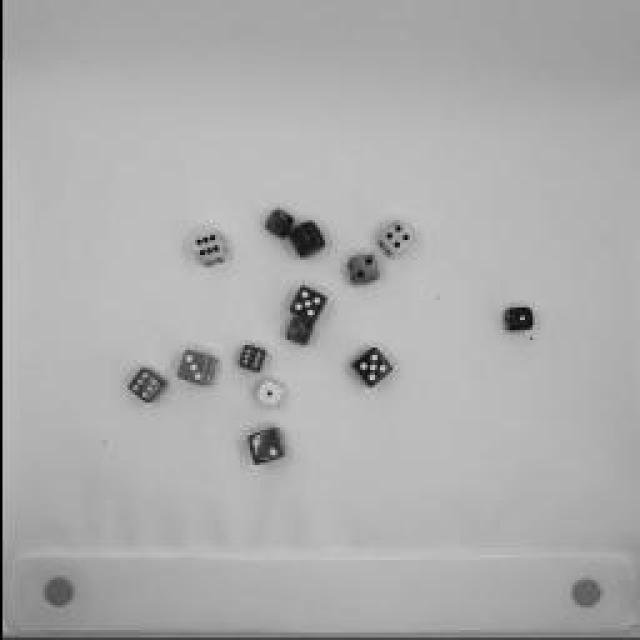dice_1: (285, 214, 325, 264), (492, 302, 540, 342), (248, 376, 284, 412)
dice_2: (242, 425, 286, 473), (340, 252, 380, 290), (262, 209, 292, 246), (280, 322, 312, 352)
dice_3: (170, 352, 215, 396)
dice_4: (371, 218, 419, 258)
dice_5: (344, 345, 398, 395), (282, 282, 326, 322)
dice_6: (122, 365, 166, 410), (185, 228, 225, 272), (231, 340, 271, 378)
